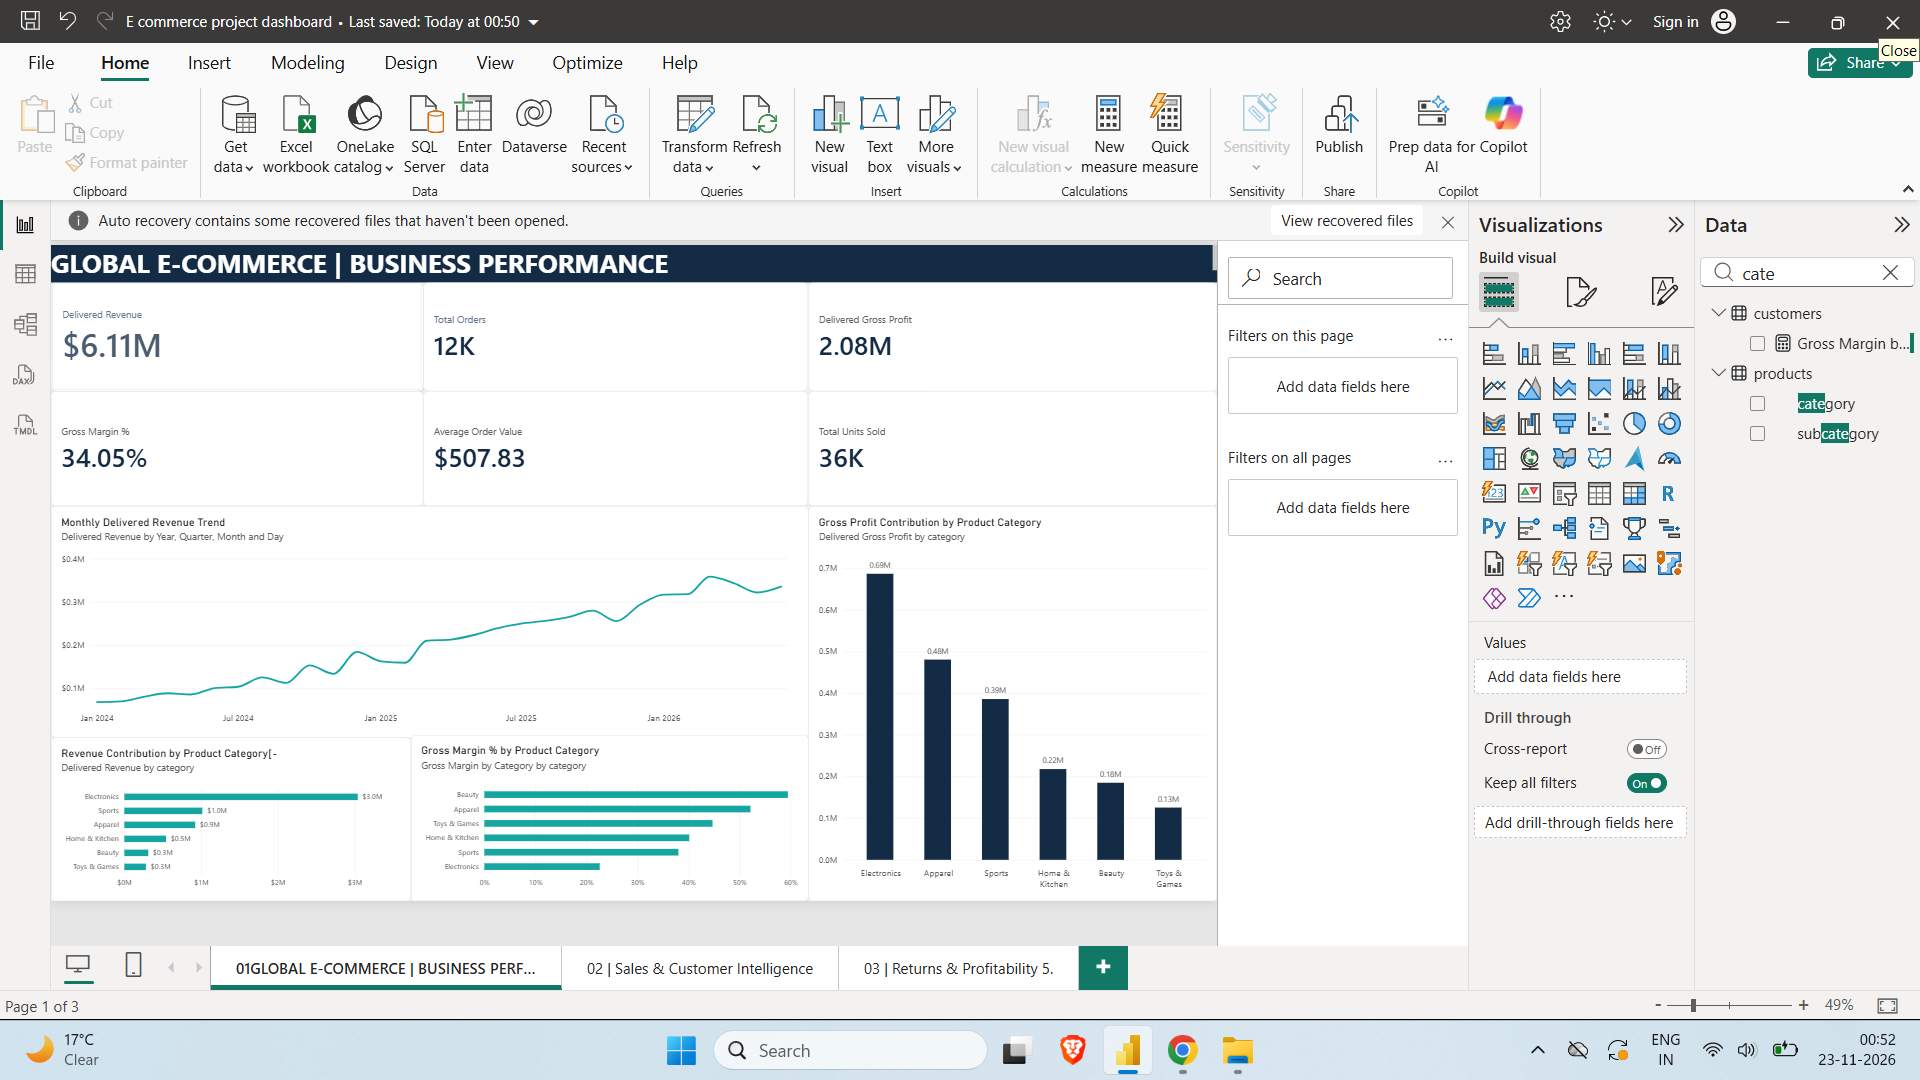

The page's visual inventory and layout, read from the dashboard file:
{"tool":"powerbi","page":{"name":"01GLOBAL E-COMMERCE | BUSINESS PERFORMANCE","canvas":[1920,1080],"ordinal":0},"visuals":[{"type":"cardVisual","fields":{"Data":["order_items.Delivered Revenue"]},"box":[0,61.7,613.4,179.1],"z":0},{"type":"textbox","box":[0,0,1920.4,61.7],"z":1000},{"type":"cardVisual","fields":{"Data":["orders.Total Orders"]},"box":[613.4,61.7,634,179.1],"z":2000},{"type":"cardVisual","fields":{"Data":["customers.Total Units Sold"]},"box":[1247.3,240.8,673.1,189.4],"z":3000},{"type":"cardVisual","fields":{"Data":["customers.Delivered Gross Profit"]},"box":[1247.3,61.7,673.1,179.1],"z":4000},{"type":"cardVisual","fields":{"Data":["customers.Gross Margin %"]},"box":[0,240.8,613.4,189.4],"z":5000},{"type":"cardVisual","fields":{"Data":["customers.Average Order Value"]},"box":[613.4,240.8,634,189.4],"z":6000},{"type":"lineChart","title":"Monthly Delivered Revenue Trend","fields":{"Category":["orders.order_month.Variation.Date Hierarchy.Year","orders.order_month.Variation.Date Hierarchy.Quarter","orders.order_month.Variation.Date Hierarchy.Month","orders.order_month.Variation.Date Hierarchy.Day"],"Y":["order_items.Delivered Revenue"]},"box":[0,430.2,1247.3,380.8],"z":7000},{"type":"clusteredBarChart","title":"Revenue Contribution by Product Category[- ","fields":{"Category":["products.category"],"Y":["order_items.Delivered Revenue"]},"box":[0,811,592.8,269.6],"z":8000},{"type":"clusteredColumnChart","title":"Gross Profit Contribution by Product Category","fields":{"Category":["products.category"],"Y":["customers.Delivered Gross Profit"]},"box":[1247.3,430.2,673.1,650.4],"z":9000},{"type":"clusteredBarChart","title":"Gross Margin % by Product Category","fields":{"Category":["products.category"],"Y":["customers.Gross Margin by Category"]},"box":[592.8,806.9,654.5,273.8],"z":10000}]}

Visuals, with their boxes on the page's 1920x1080 design canvas (x1, y1, x2, y2). These are canvas units, not pixel positions in the 1920x1080 screenshot, which may show the page scaled, cropped or inside an application window:
cardVisual - order_items.Delivered Revenue: pyautogui.locateOnScreen(0, 62, 613, 241)
textbox: pyautogui.locateOnScreen(0, 0, 1920, 62)
cardVisual - orders.Total Orders: pyautogui.locateOnScreen(613, 62, 1247, 241)
cardVisual - customers.Total Units Sold: pyautogui.locateOnScreen(1247, 241, 1920, 430)
cardVisual - customers.Delivered Gross Profit: pyautogui.locateOnScreen(1247, 62, 1920, 241)
cardVisual - customers.Gross Margin %: pyautogui.locateOnScreen(0, 241, 613, 430)
cardVisual - customers.Average Order Value: pyautogui.locateOnScreen(613, 241, 1247, 430)
"Monthly Delivered Revenue Trend" lineChart: pyautogui.locateOnScreen(0, 430, 1247, 811)
"Revenue Contribution by Product Category[- " clusteredBarChart: pyautogui.locateOnScreen(0, 811, 593, 1081)
"Gross Profit Contribution by Product Category" clusteredColumnChart: pyautogui.locateOnScreen(1247, 430, 1920, 1081)
"Gross Margin % by Product Category" clusteredBarChart: pyautogui.locateOnScreen(593, 807, 1247, 1081)
